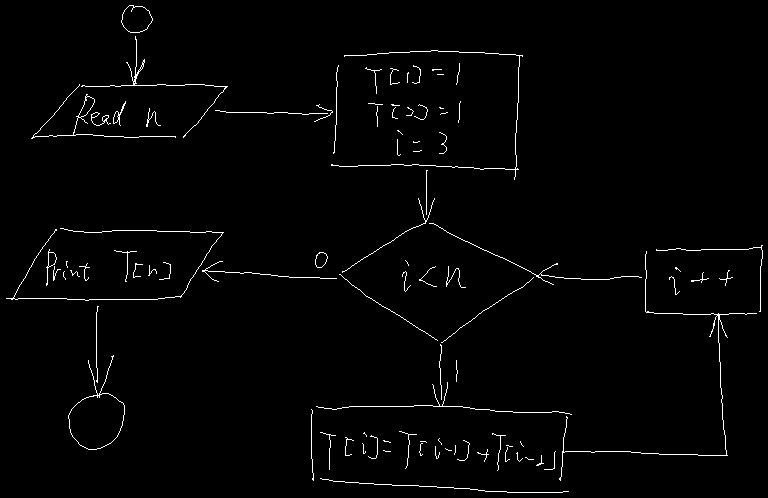arrow: (563, 313, 727, 455), (202, 261, 336, 281), (88, 306, 113, 397), (536, 263, 641, 284), (215, 104, 332, 121), (432, 344, 447, 406), (126, 36, 144, 85), (418, 170, 434, 222)
connection: (68, 393, 124, 449), (121, 5, 152, 32)
data: (6, 228, 223, 300), (31, 84, 227, 138)
decision: (339, 223, 537, 342)
process: (331, 50, 522, 179), (311, 405, 571, 492), (645, 245, 762, 314)
text: (320, 431, 555, 470), (365, 63, 460, 155), (46, 249, 170, 285), (72, 94, 160, 135), (402, 260, 465, 291), (669, 267, 732, 294), (315, 252, 327, 267), (455, 360, 458, 381)
